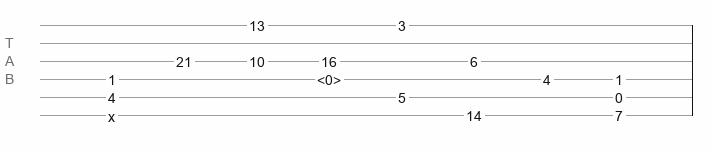0: (615, 90, 623, 100)
1: (108, 72, 116, 82), (615, 72, 623, 82)
10: (249, 54, 265, 64)
13: (249, 18, 265, 28)
14: (466, 108, 482, 118)
16: (321, 54, 337, 64)
21: (176, 54, 192, 64)
3: (398, 18, 406, 28)
4: (108, 90, 116, 100), (543, 72, 551, 82)
5: (398, 90, 406, 100)
6: (470, 54, 478, 64)
7: (615, 108, 623, 118)
harmonic: (317, 72, 341, 82)
x: (108, 109, 115, 117)
